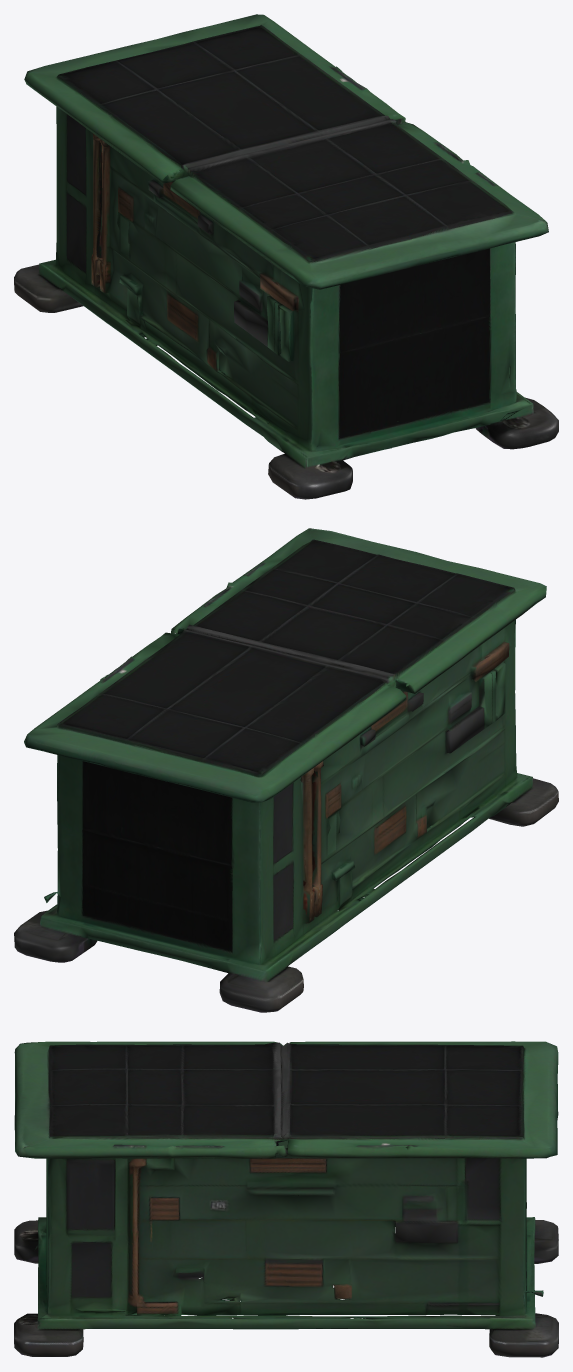
File: Sat1.glb
3 renders of one model, top to bottom at view 1: azimuth 30°, elevation 25°; view 2: azimuth 150°, elevation 25°; view 3: azimuth 270°, elevation 25°, orthographic. The views are drawn at different scales.
Size of the model in its own units: 1.06 by 0.8567 by 2.01.
1 material, 1 textured.
